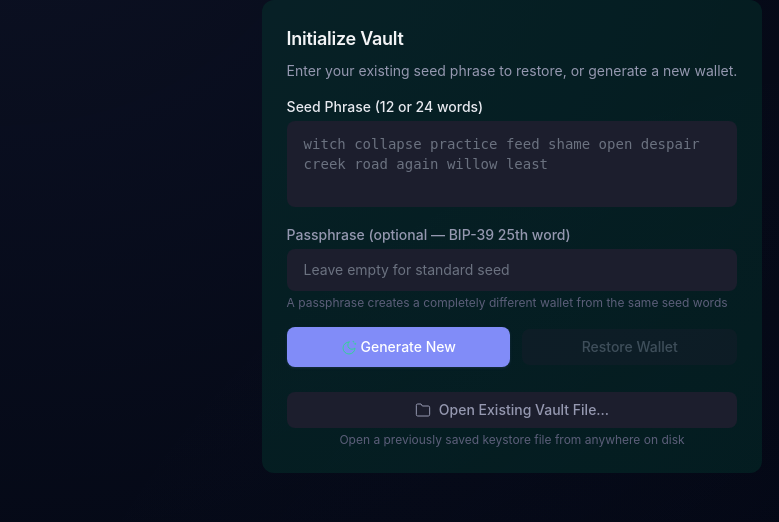
Test: VaultInit.svelte › shows error state when generateMnemonic fails
The image size is (779, 522).
Click the button "Generate New" at (398, 347), box 287,327 -> 510,367
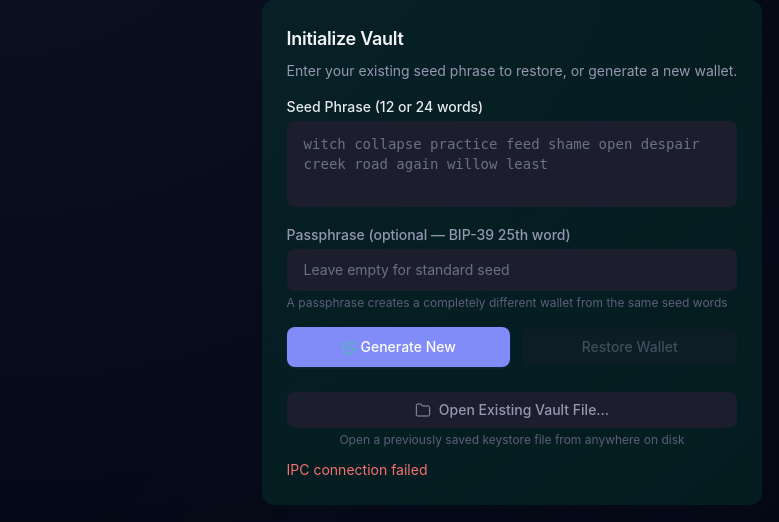
Result: the text "IPC connection failed" is shown at 287,461 -> 428,478
